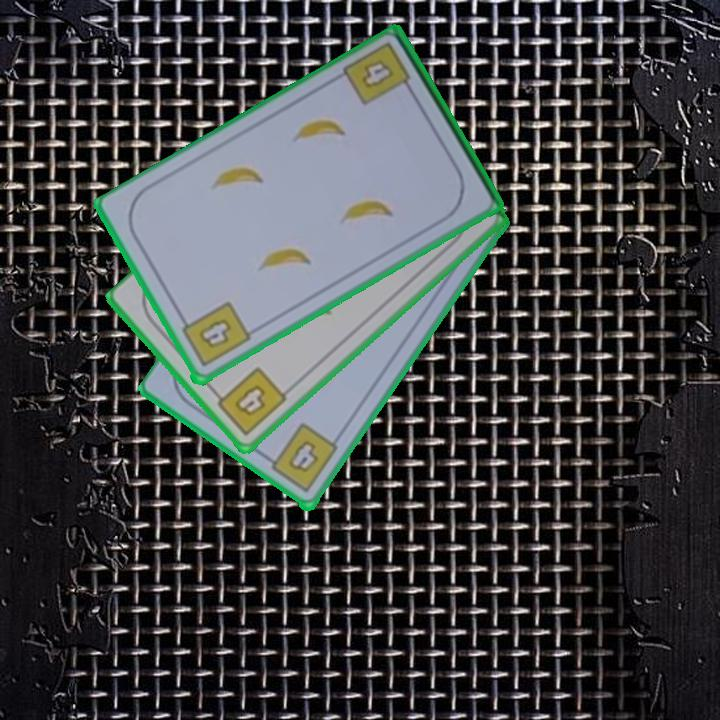4b: (209, 363, 290, 439), (261, 420, 341, 496), (176, 298, 253, 371), (358, 56, 393, 92)
